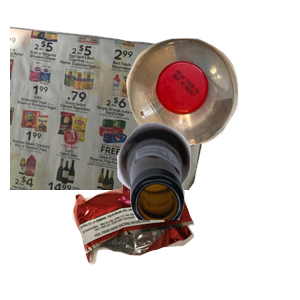glass: (115, 120, 300, 300)
paper: (10, 21, 222, 201)
plastic: (124, 36, 300, 175)
trash: (70, 162, 257, 300)
